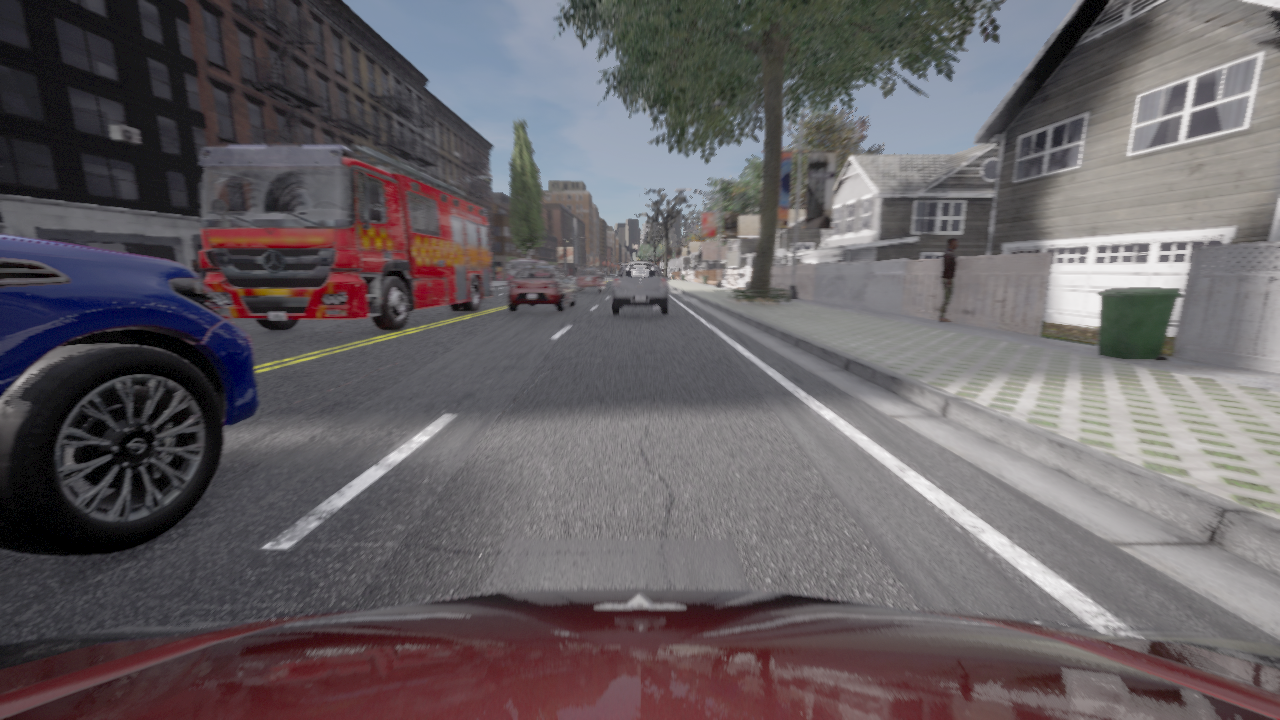cyclist: (0, 588, 1279, 719), (198, 143, 492, 330), (507, 265, 576, 311), (611, 263, 668, 314), (505, 259, 546, 288), (575, 268, 604, 292), (629, 261, 650, 263)
pedestrian: (937, 237, 958, 322)
